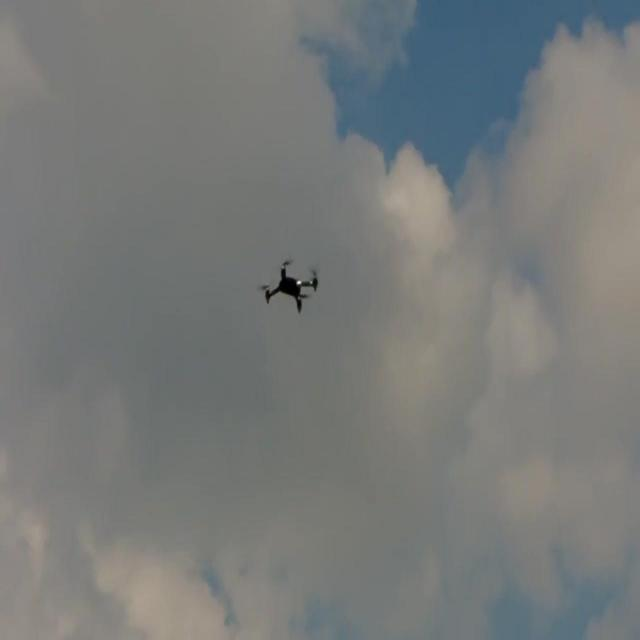UAV: (260, 255, 321, 317)
